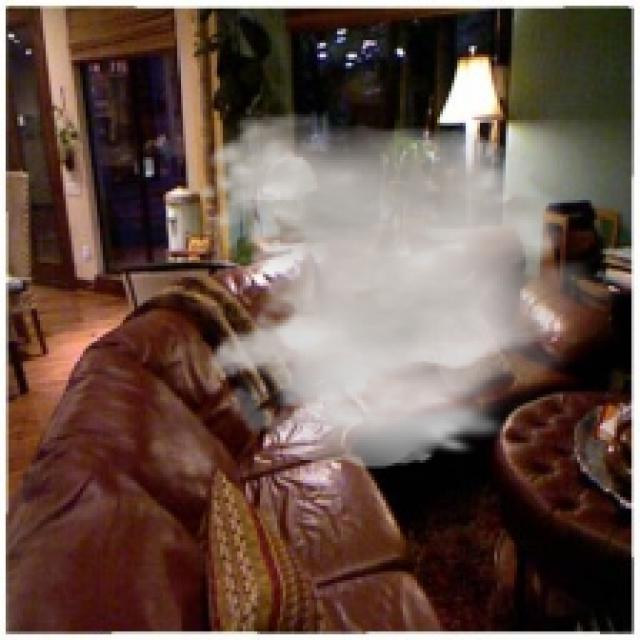smoke: (194, 111, 620, 468)
